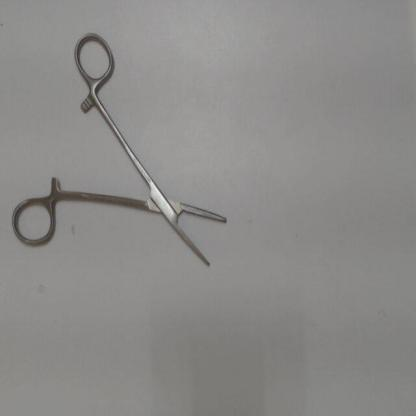Mayo Needle Holder: (6, 25, 251, 287)
